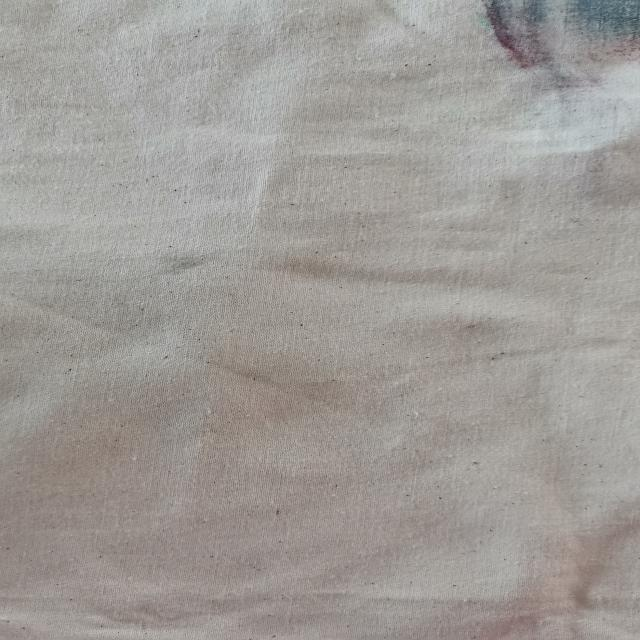taaaches: (458, 0, 640, 106), (140, 248, 209, 286)
